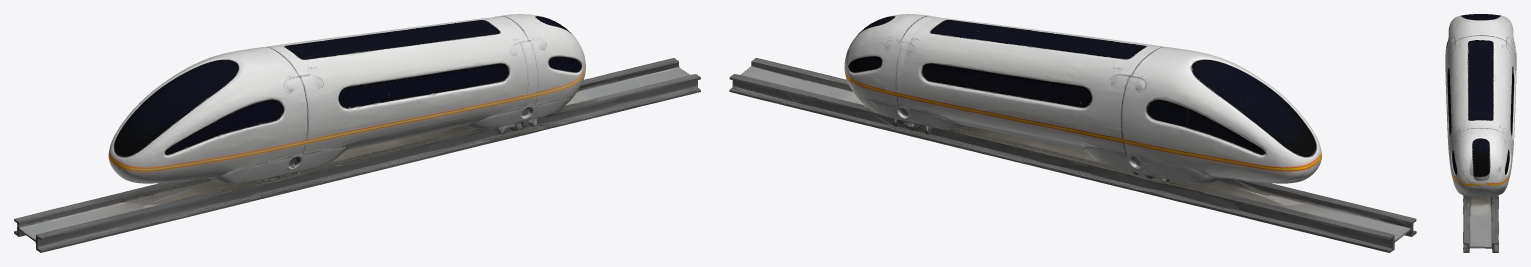
The model's file is transit-hyperloop-capsule-mesh.glb.
The picture shows the model from 3 angles, left to right: view 1: azimuth 30°, elevation 25°; view 2: azimuth 150°, elevation 25°; view 3: azimuth 270°, elevation 25°; orthographic projection. The views are drawn at different scales.
Parts seen in each view (by area): view 1: Mesh_0; view 2: Mesh_0; view 3: Mesh_0.
Part boxes in pixels (x1,y1,x2,y2): Mesh_0: [14, 14, 700, 252]; Mesh_0: [729, 14, 1416, 252]; Mesh_0: [1445, 14, 1516, 252].
Bounding box in the file's own units: 1.9 × 0.3617 × 0.2681.
1 material, 1 textured.
